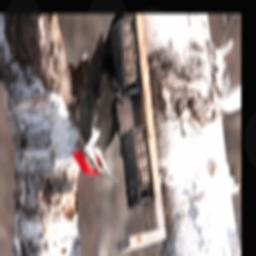Woodpecker: (69, 33, 129, 184)
